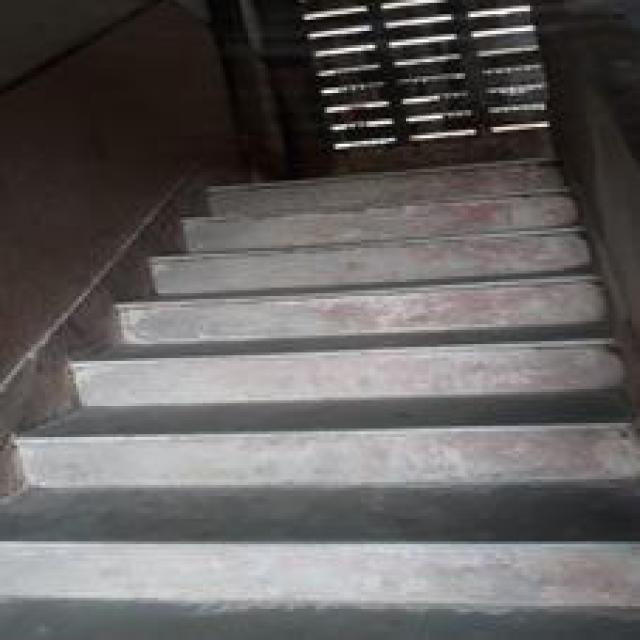upstair: (43, 280, 585, 610)
